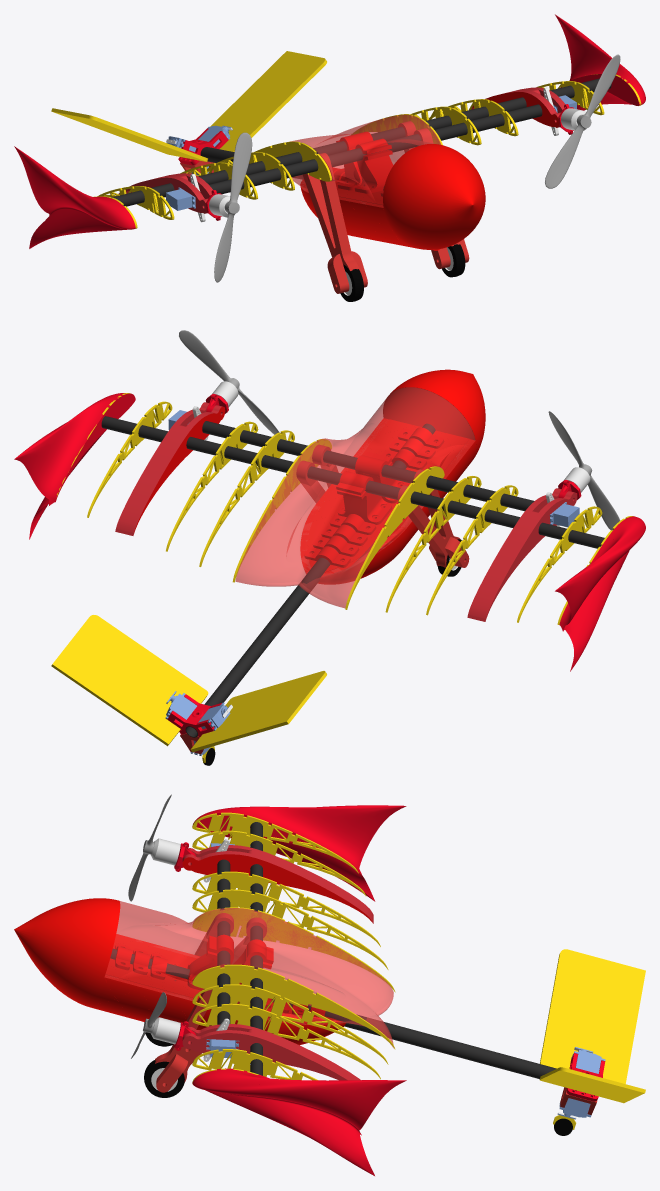
3 renders of one model, top to bottom at view 1: azimuth 30°, elevation 25°; view 2: azimuth 150°, elevation 25°; view 3: azimuth 270°, elevation 25°, orthographic. The views are drawn at different scales.
Visible parts, largest first — view 1: Nose Cone; view 2: Nose Cone; view 3: Nose Cone.
Part boxes in pixels (x1=…): Nose Cone: x1=14, y1=14, x2=645, y2=301; Nose Cone: x1=14, y1=330, x2=645, y2=765; Nose Cone: x1=14, y1=794, x2=645, y2=1175.
Size of the model in its own units: 0.8921 by 0.3927 by 0.8561.
